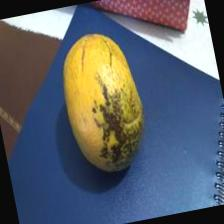Orange Rotten: (42, 16, 164, 186)
